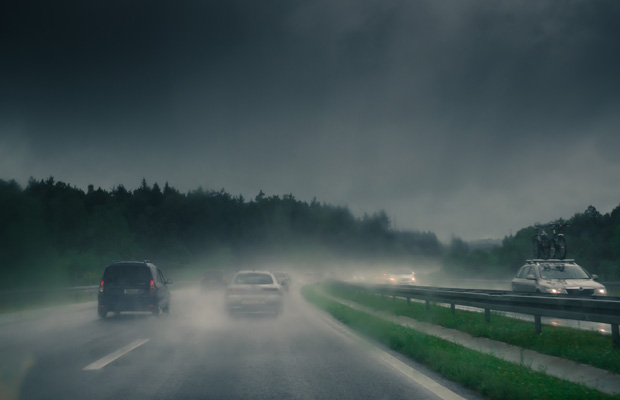bicycle: (530, 222, 553, 258), (549, 222, 566, 263)
car: (95, 259, 171, 319), (508, 259, 606, 296), (227, 270, 283, 318), (198, 267, 228, 294), (388, 266, 416, 285), (277, 269, 290, 294)
